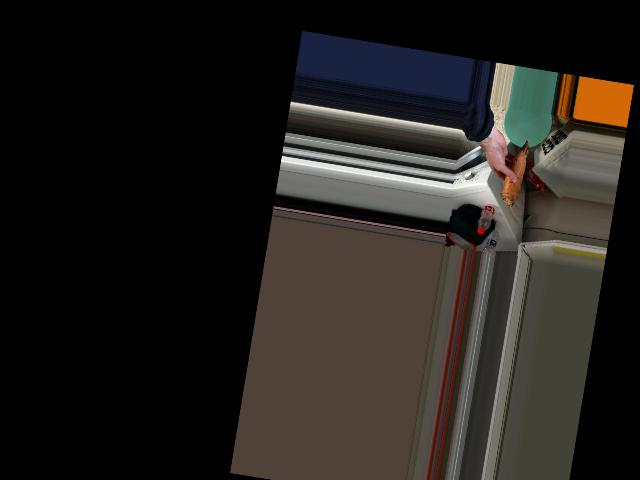sweet_potato: (502, 137, 528, 210)
